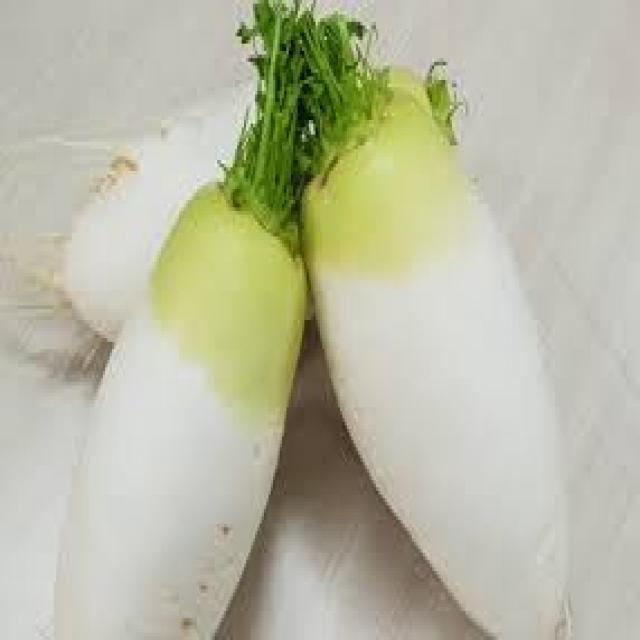Radish: (304, 73, 566, 640), (72, 185, 307, 640)
